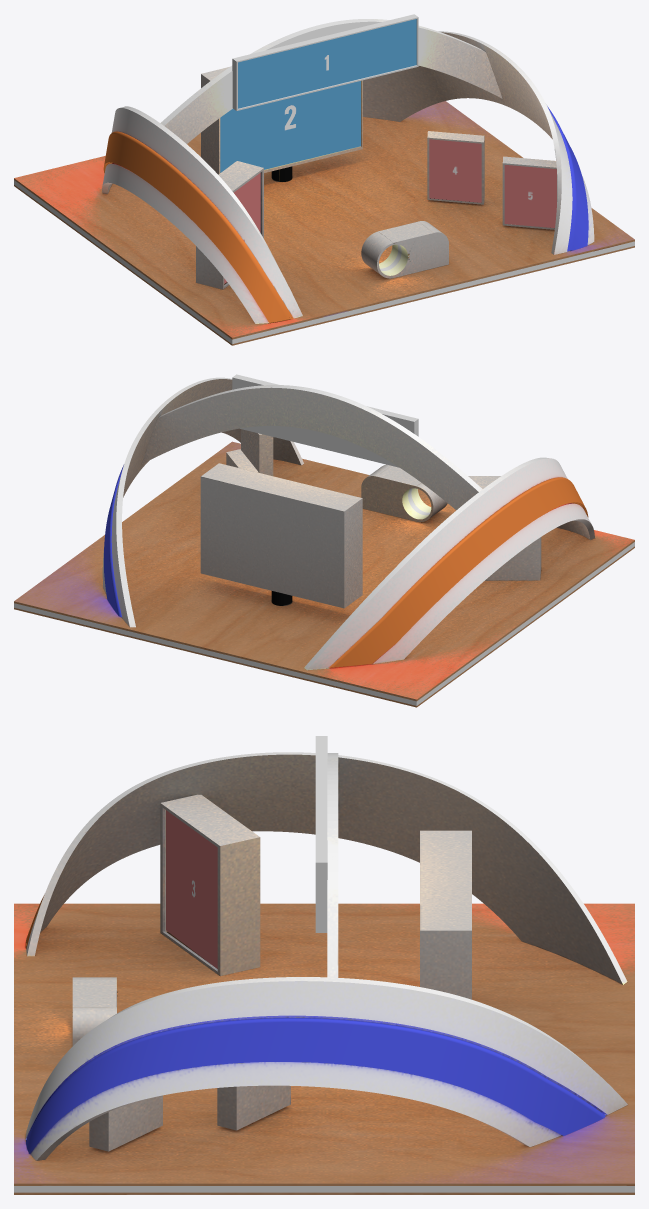
File: gold stall.glb
3 renders of one model, top to bottom at view 1: azimuth 30°, elevation 25°; view 2: azimuth 150°, elevation 25°; view 3: azimuth 270°, elevation 25°, orthographic. The views are drawn at different scales.
Visible parts, largest first — view 1: black gradient.002, 2, 1, emission orange, light layer, 3, 4, emission blue, 5; view 2: black gradient.002, emission orange, light layer, emission blue; view 3: black gradient.002, emission blue, light layer, 5.
Boxes of the visible parts, x1,y1,x2,y2 form: black gradient.002: (14,19,634,345); 2: (220,81,360,172); 1: (238,19,416,108); emission orange: (103,131,293,323); light layer: (14,14,634,344); 3: (429,139,481,202); 4: (504,165,556,227); emission blue: (547,106,588,251); 5: (224,173,260,283); black gradient.002: (14,377,634,707); emission orange: (329,477,588,667); light layer: (14,374,634,705); emission blue: (104,465,123,616); black gradient.002: (14,752,634,1194); emission blue: (26,1018,605,1153); light layer: (14,736,634,1192); 5: (166,810,217,968).
Size of the model in its own units: 10.89 by 4.86 by 10.21.
Materials: 9 (6 with a texture image).
